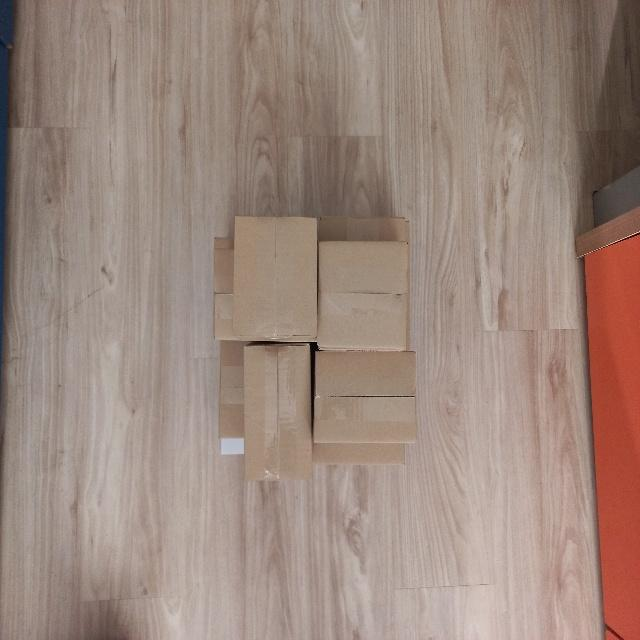box: (230, 213, 321, 343), (238, 340, 318, 484), (314, 238, 412, 354), (311, 348, 421, 447)
